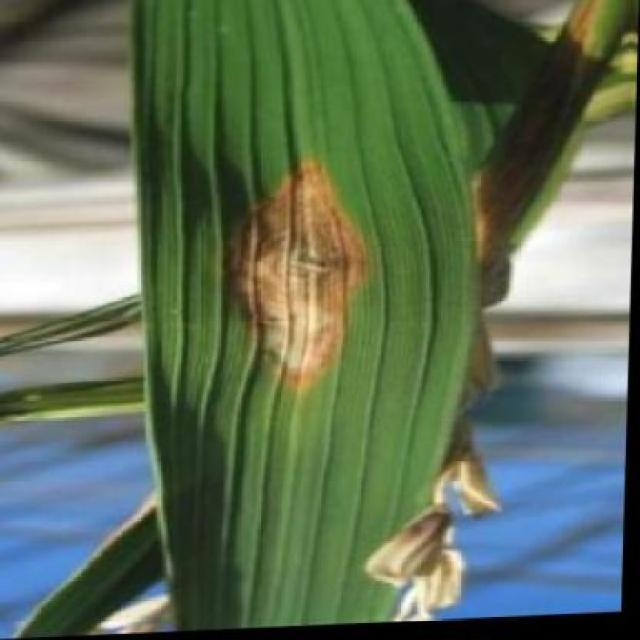Bacterial_Leaf_Blight: (196, 118, 410, 412)
Brown_Spot: (566, 0, 640, 68)
